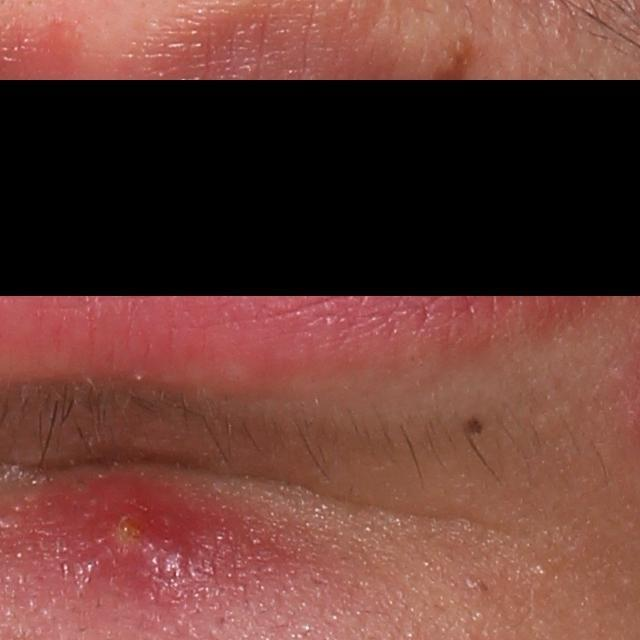nevus: (421, 31, 498, 85), (463, 412, 490, 440)
